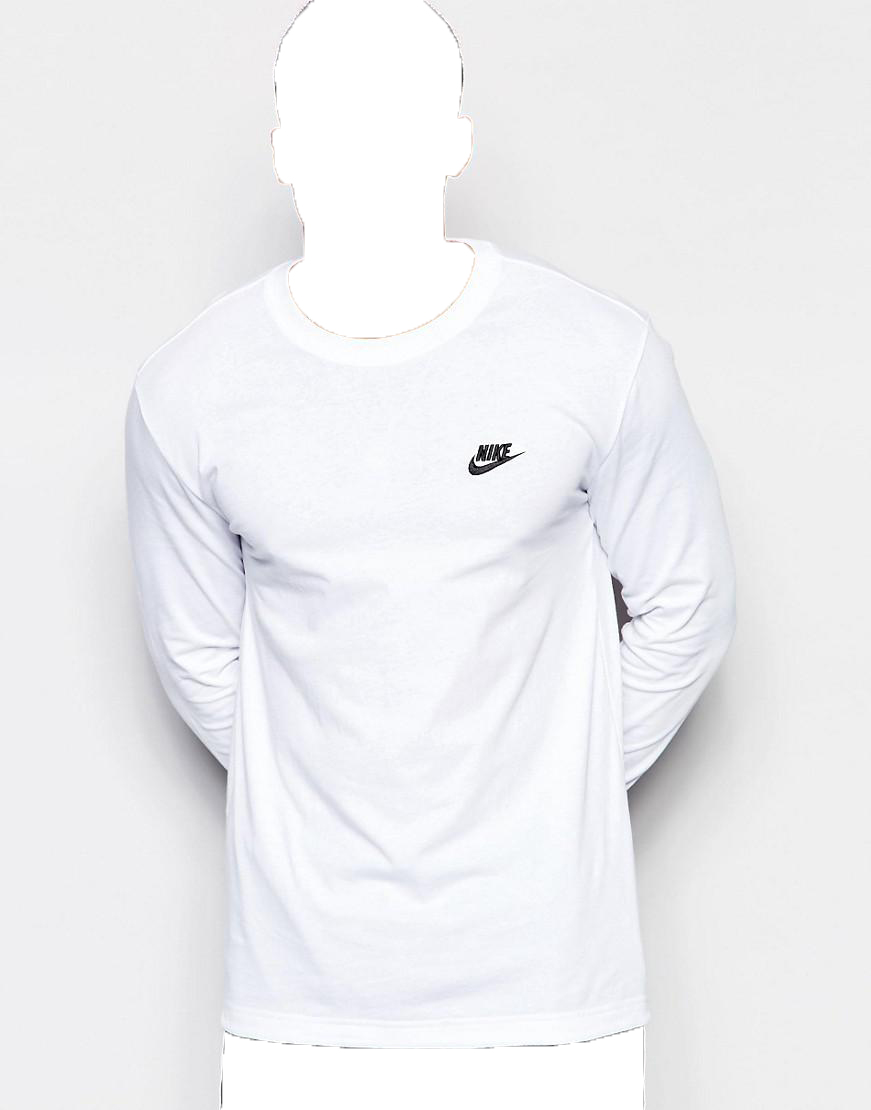teeshirt: (105, 240, 746, 1056)
